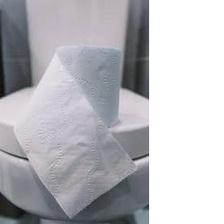tissue: (8, 37, 142, 222)
